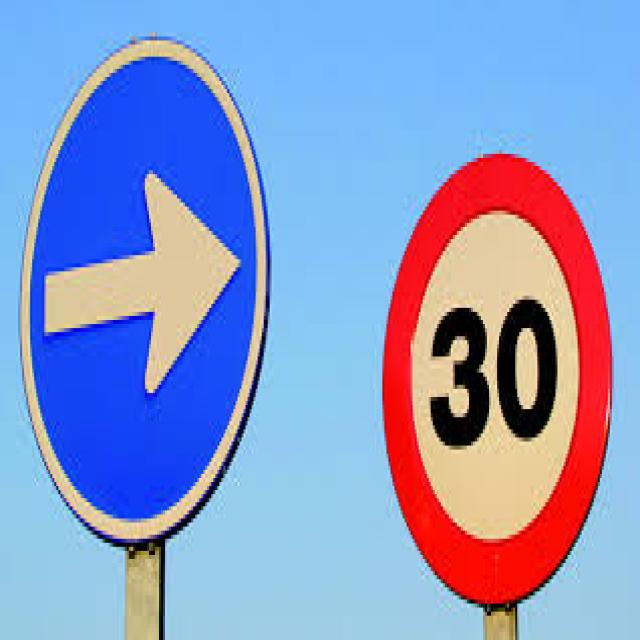Speed limit 30: (379, 147, 615, 609)
